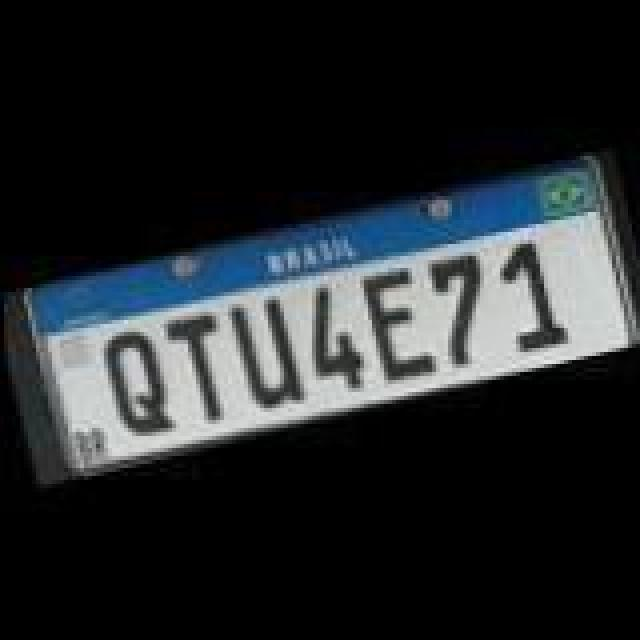1: (482, 230, 566, 354)
4: (294, 272, 370, 396)
7: (422, 240, 498, 364)
E: (354, 262, 438, 390)
Q: (94, 320, 178, 448)
T: (160, 308, 240, 432)
U: (224, 284, 312, 416)
